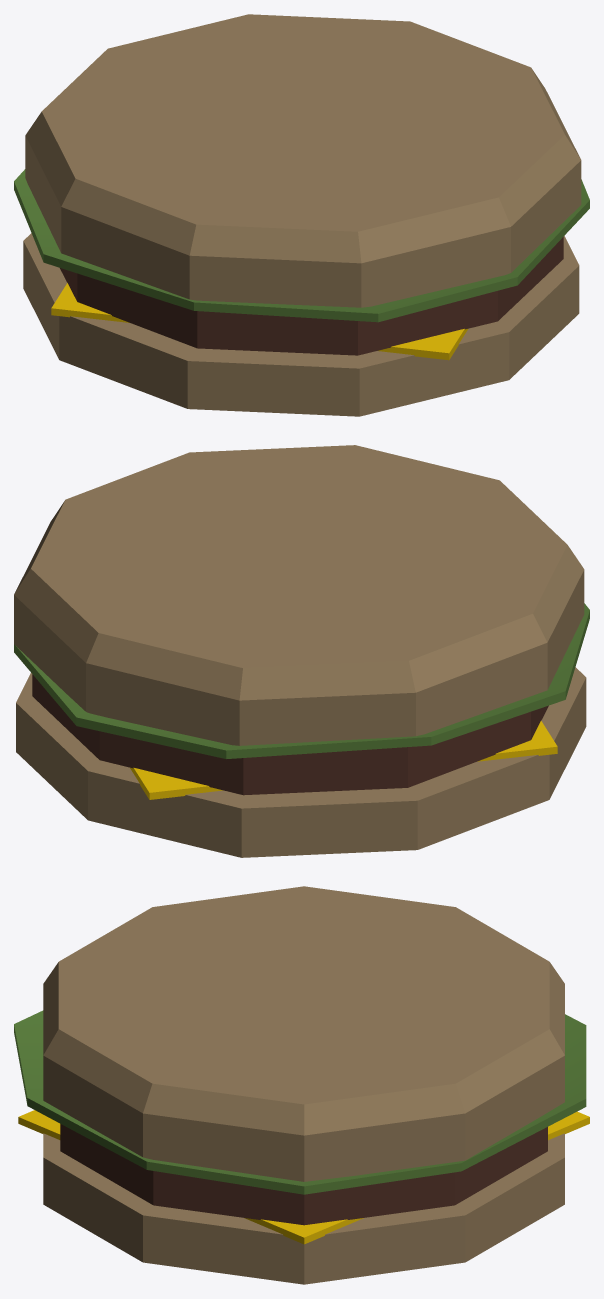
Rendered from Low Poly Burger.fbx.
3 renders of one model, top to bottom at view 1: azimuth 30°, elevation 25°; view 2: azimuth 150°, elevation 25°; view 3: azimuth 270°, elevation 25°, orthographic. The views are drawn at different scales.
Parts seen in each view (by area): view 1: Bottom_bun; view 2: Bottom_bun; view 3: Bottom_bun.
Boxes of the visible parts, box(x1,y1,x2,y2) form: Bottom_bun: box(14, 14, 589, 416); Bottom_bun: box(14, 445, 589, 857); Bottom_bun: box(14, 886, 589, 1284).
Size of the model in its own units: 2.14 by 0.7011 by 2.1.
